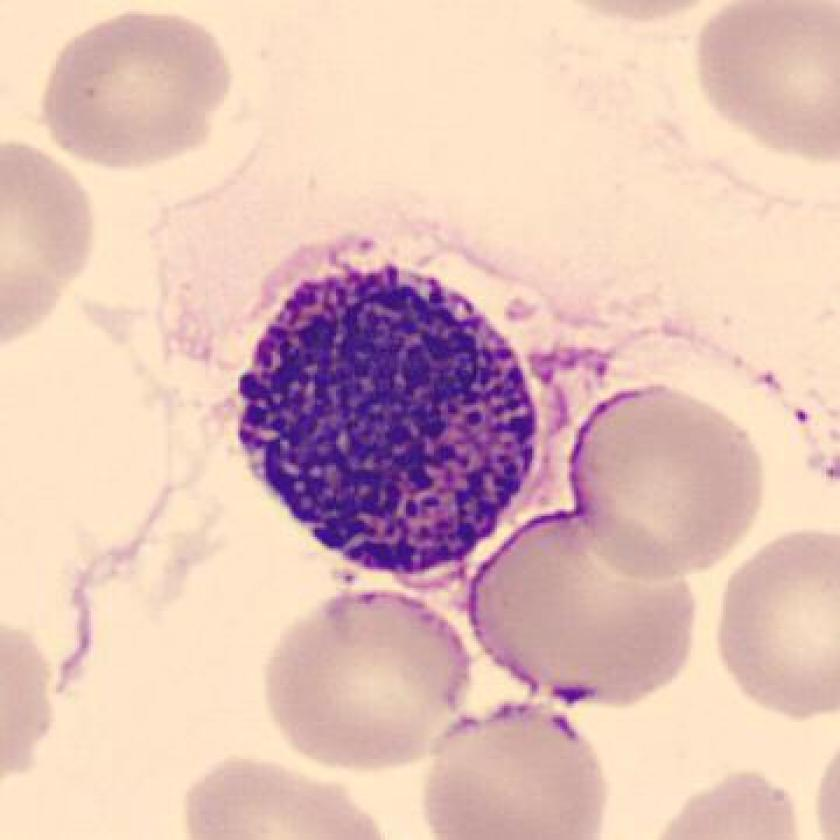basophil: (227, 249, 547, 577)
